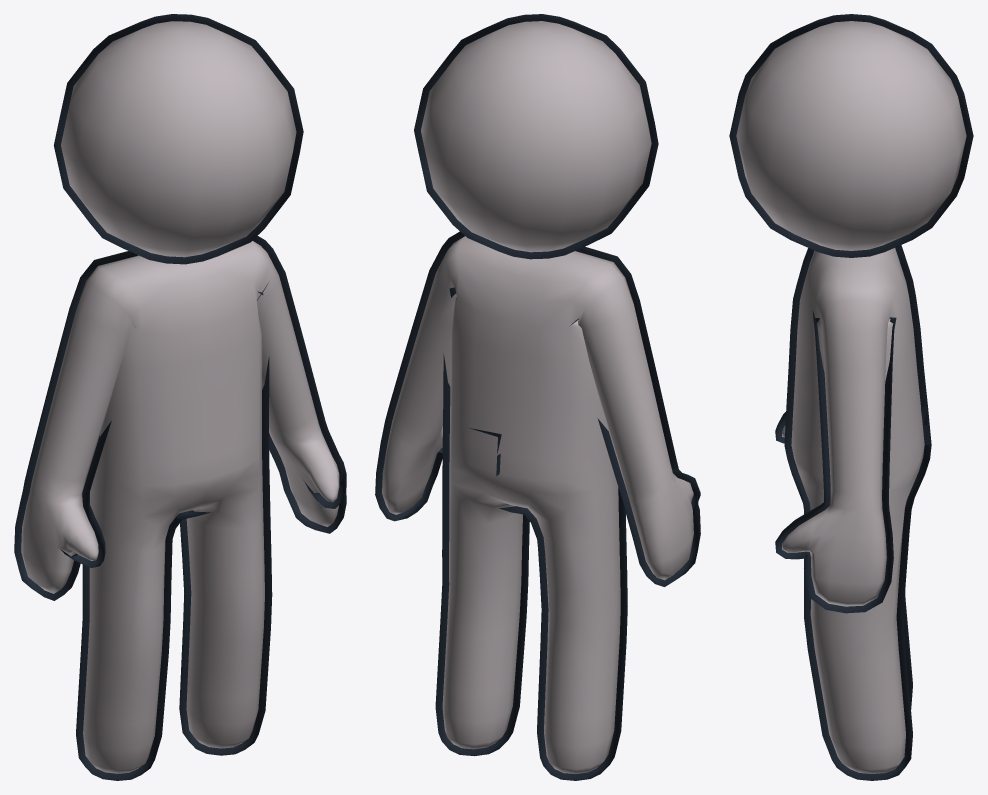
The model's file is Human.fbx.
The picture shows the model from 3 angles, left to right: view 1: azimuth 30°, elevation 25°; view 2: azimuth 150°, elevation 25°; view 3: azimuth 270°, elevation 25°; orthographic projection. The views are drawn at different scales.
Parts seen in each view (by area): view 1: Human; view 2: Human; view 3: Human.
Boxes of the visible parts, box(x1,y1,x2,y2) form: Human: box(14, 14, 346, 780); Human: box(375, 14, 700, 780); Human: box(729, 14, 973, 780).
Bounding box in the file's own units: 81.4 × 188 × 57.55.
